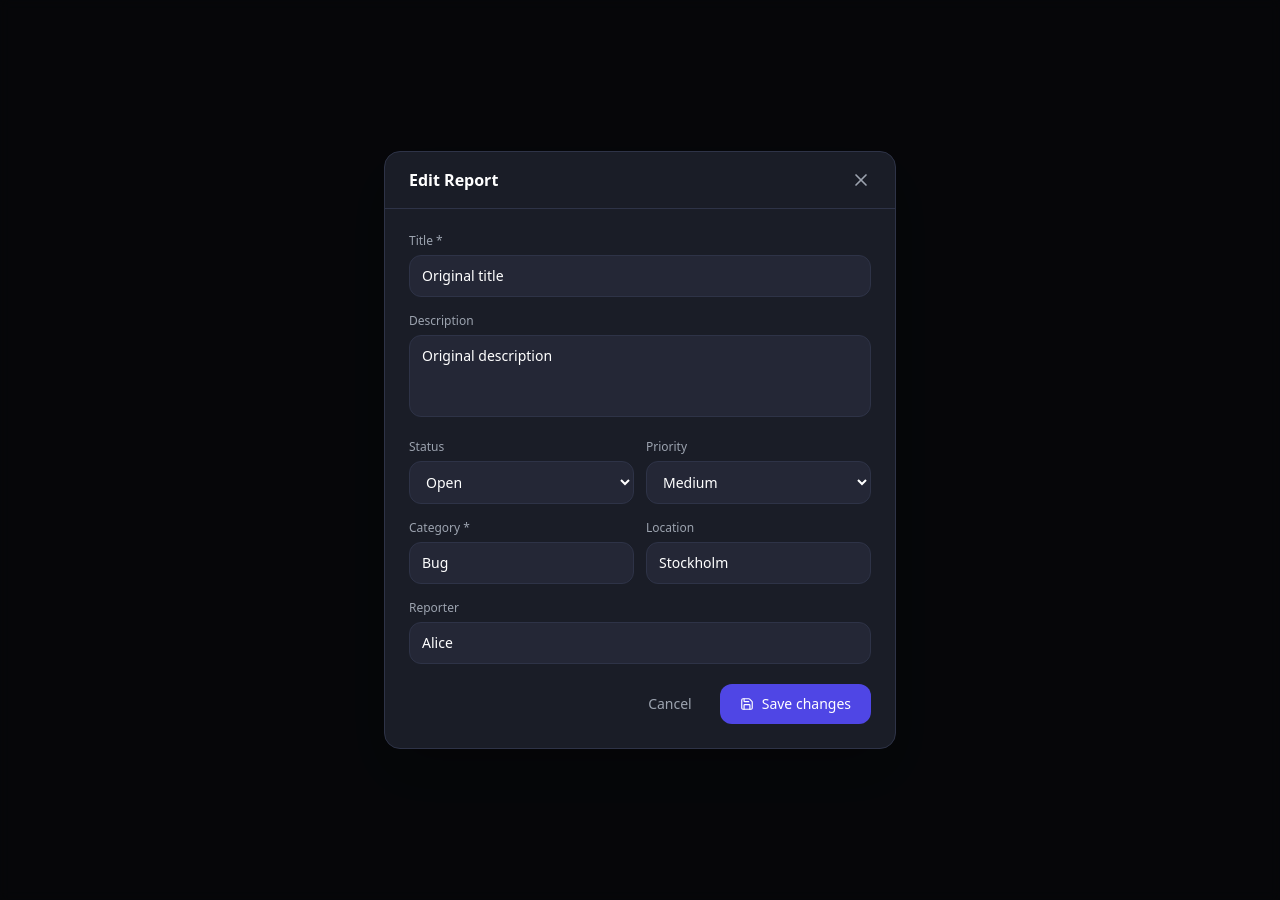
Test: EditReportModal › shows success state after save
What coordinates should you click on to do the following:
click the button "Save changes"
I would click on:
 (795, 704)
Its box is [720, 684, 871, 724].
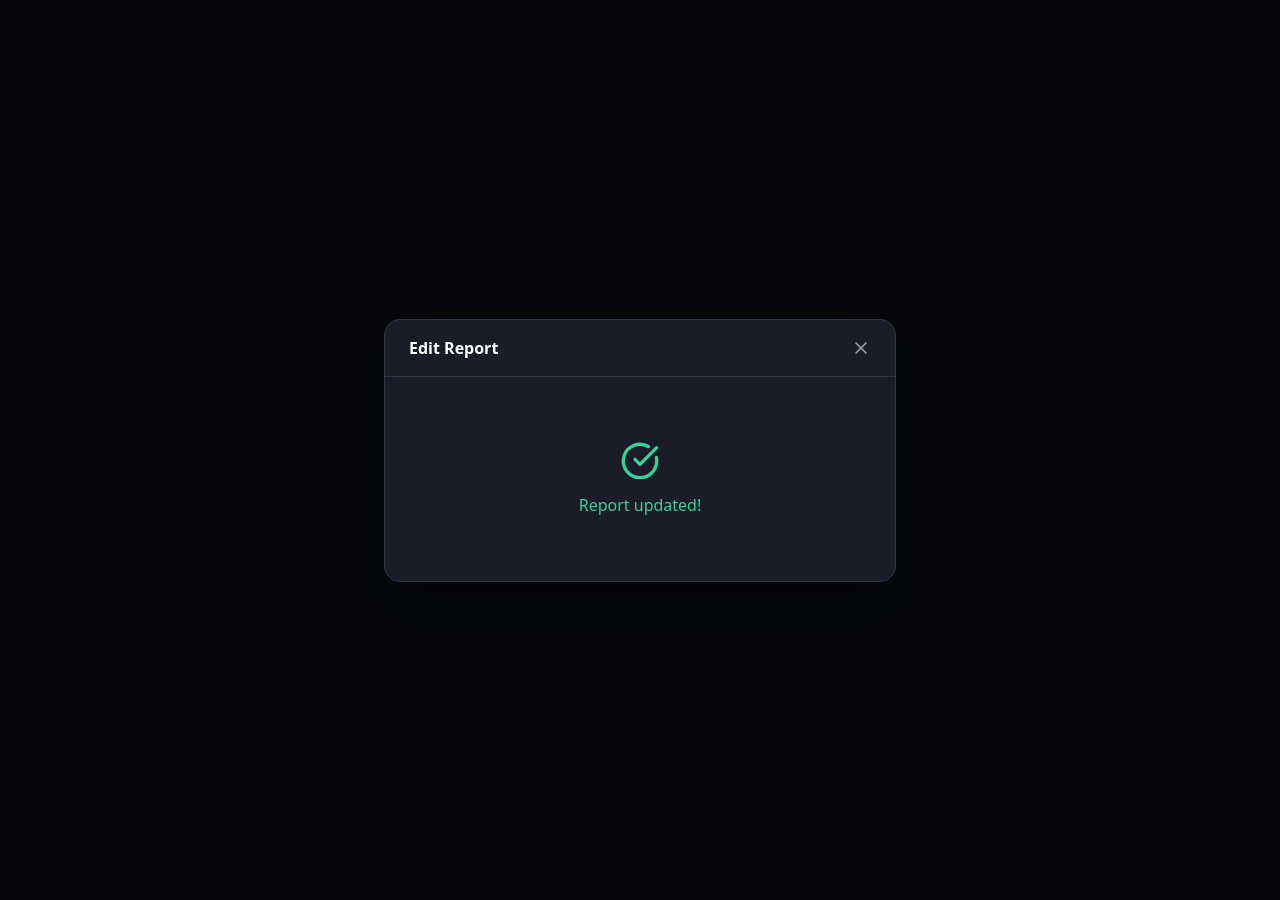
Expected: the text "Report updated!" is shown, [579, 492, 701, 516]
